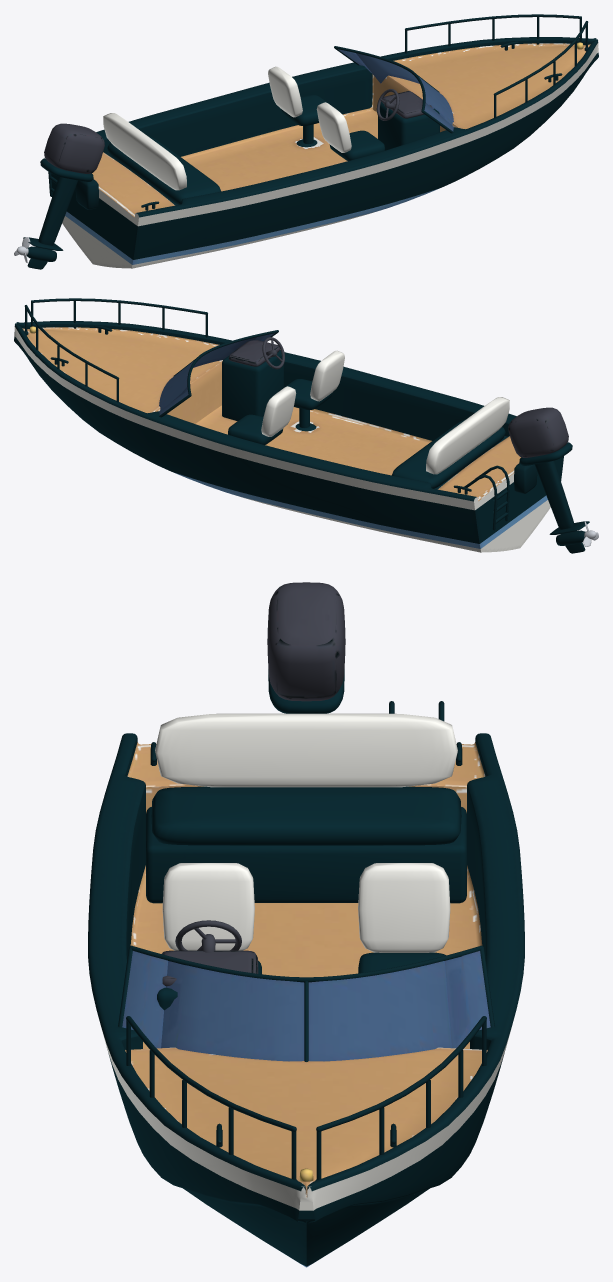
The model's file is lancha-ventura-175-2011.glb.
The picture shows the model from 3 angles, top to bottom: view 1: azimuth 30°, elevation 25°; view 2: azimuth 150°, elevation 25°; view 3: azimuth 270°, elevation 25°; orthographic projection. The views are drawn at different scales.
Parts seen in each view (by area): view 1: motorboat_body, motorboat_steering_wheel; view 2: motorboat_body, motorboat_steering_wheel; view 3: motorboat_body, motorboat_steering_wheel.
Part boxes in pixels (left/top/right/bottom): motorboat_body: left=23, top=14, right=598, bottom=269; motorboat_steering_wheel: left=376, top=89, right=399, bottom=120; motorboat_body: left=14, top=298, right=589, bottom=553; motorboat_steering_wheel: left=262, top=337, right=284, bottom=369; motorboat_body: left=88, top=582, right=524, bottom=1267; motorboat_steering_wheel: left=175, top=920, right=241, bottom=952.
Size of the model in its own units: 5.33 by 1.3 by 1.74.
Materials: 3 (1 with a texture image).
